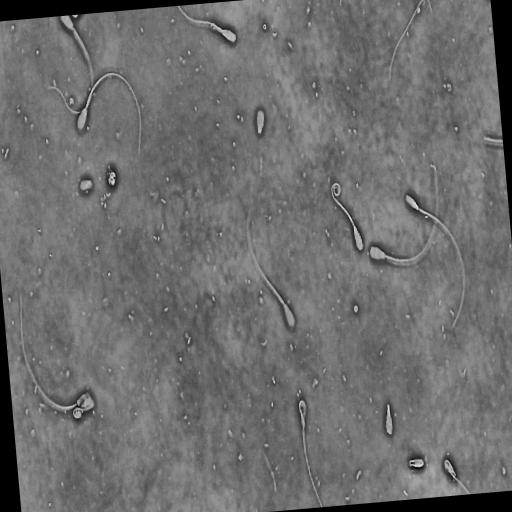coiled-tail: (331, 182, 355, 226), (73, 406, 82, 419), (334, 185, 339, 194)
dirt-particles: (77, 177, 95, 195), (106, 166, 118, 188)
loose-head: (383, 399, 395, 439), (254, 105, 266, 137), (408, 456, 426, 470)
loose-tail: (387, 0, 426, 84)
normal: (18, 292, 93, 412), (404, 192, 466, 331), (368, 156, 441, 268), (245, 204, 297, 330), (75, 71, 142, 161), (297, 396, 324, 507), (330, 181, 366, 255), (177, 6, 237, 45), (72, 395, 96, 421)
